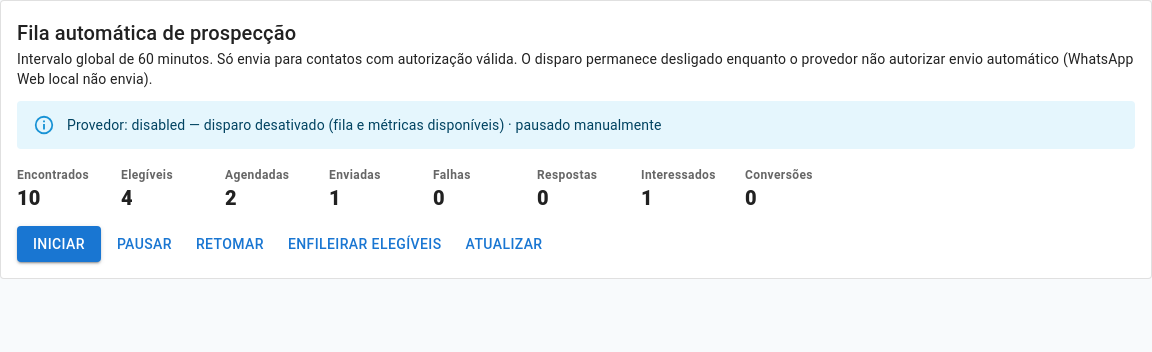
Scenario: mostra métricas e dispara controles sem envio real
Expected: the text "Elegíveis" is shown, [121,168,173,182]
Expected: the heading "4" is shown, [121,186,133,210]
What coordinates should you click on to do the following:
click the button "Enfileirar elegíveis"
I would click on:
 (365, 244)
Its box is [280,226,450,262].
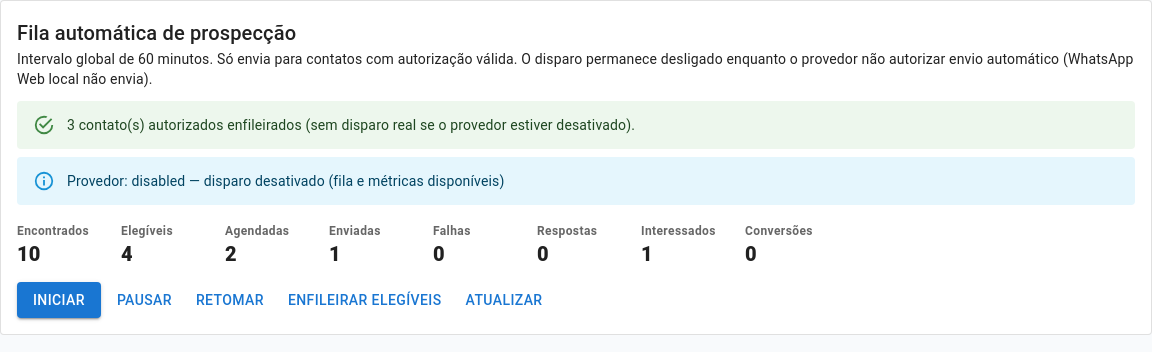
Now the text "3 contato" is shown, box [67,117,635,133]
